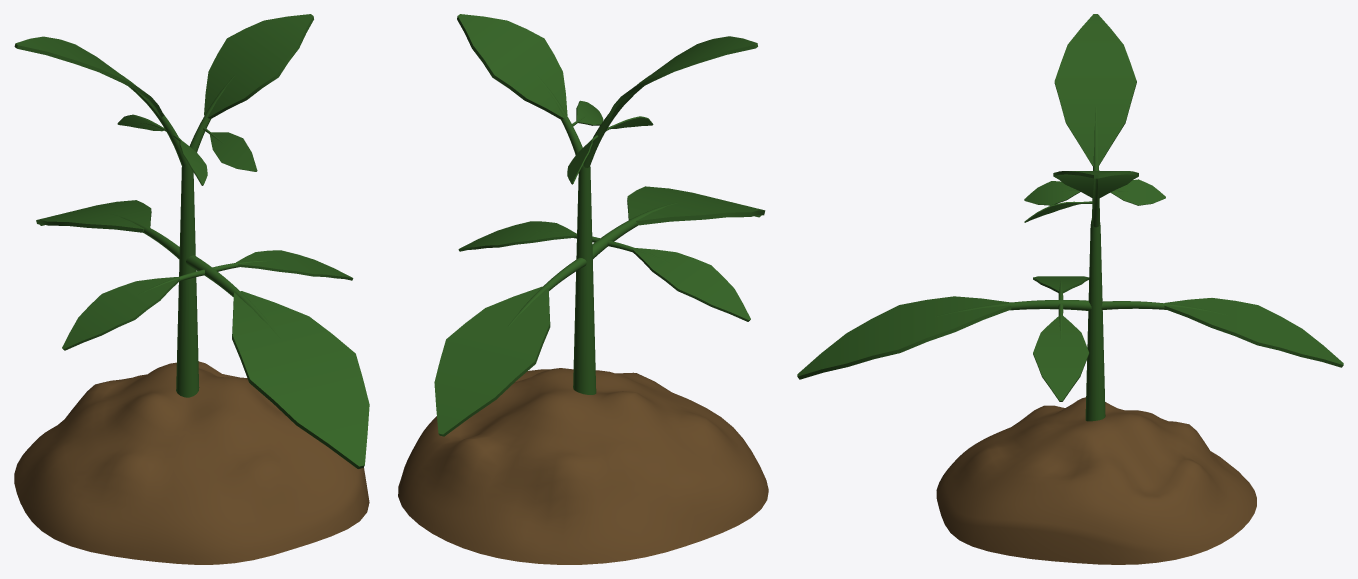
File: TOMATO_vegetation.fbx
The picture shows the model from 3 angles, left to right: view 1: azimuth 30°, elevation 25°; view 2: azimuth 150°, elevation 25°; view 3: azimuth 270°, elevation 25°; orthographic projection. The views are drawn at different scales.
Parts seen in each view (by area): view 1: pCube31; view 2: pCube31; view 3: pCube31.
Boxes of the visible parts, bbox=[...] form: pCube31: bbox=[14, 14, 369, 564]; pCube31: bbox=[398, 14, 768, 564]; pCube31: bbox=[797, 14, 1343, 564].
Bounding box in the file's own units: 0.9845 × 1.41 × 1.68.
